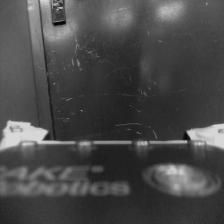Lock: (53, 1, 63, 10)
